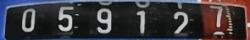digits: (58, 6, 74, 31), (96, 8, 112, 32), (21, 7, 36, 31), (209, 5, 224, 27), (173, 11, 188, 32), (136, 9, 146, 33)
